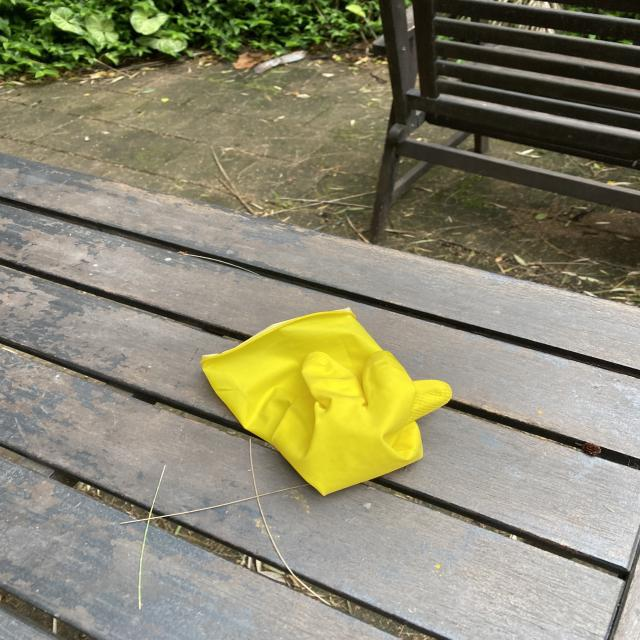glove: (200, 307, 453, 496)
